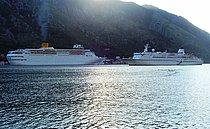Ship: (6, 40, 112, 71), (119, 43, 207, 70)
